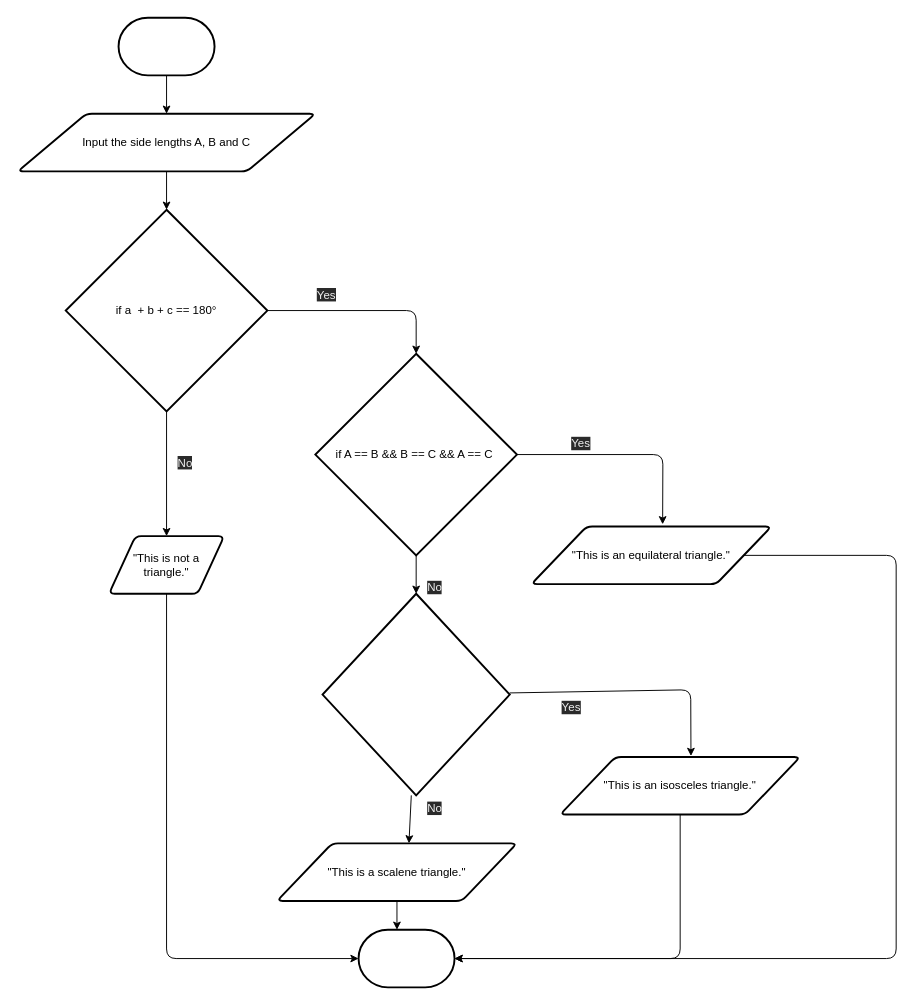
This 921x1004 diagram has some shape labels left out. The shapes that lost their labels are listed below. From the top down, each one's centre as x and y in pixels, then its label:
At pixel 166 46: "Start".
At pixel 415 694: "if A == B || B == C || A == C".
At pixel 406 958: "Stop".
